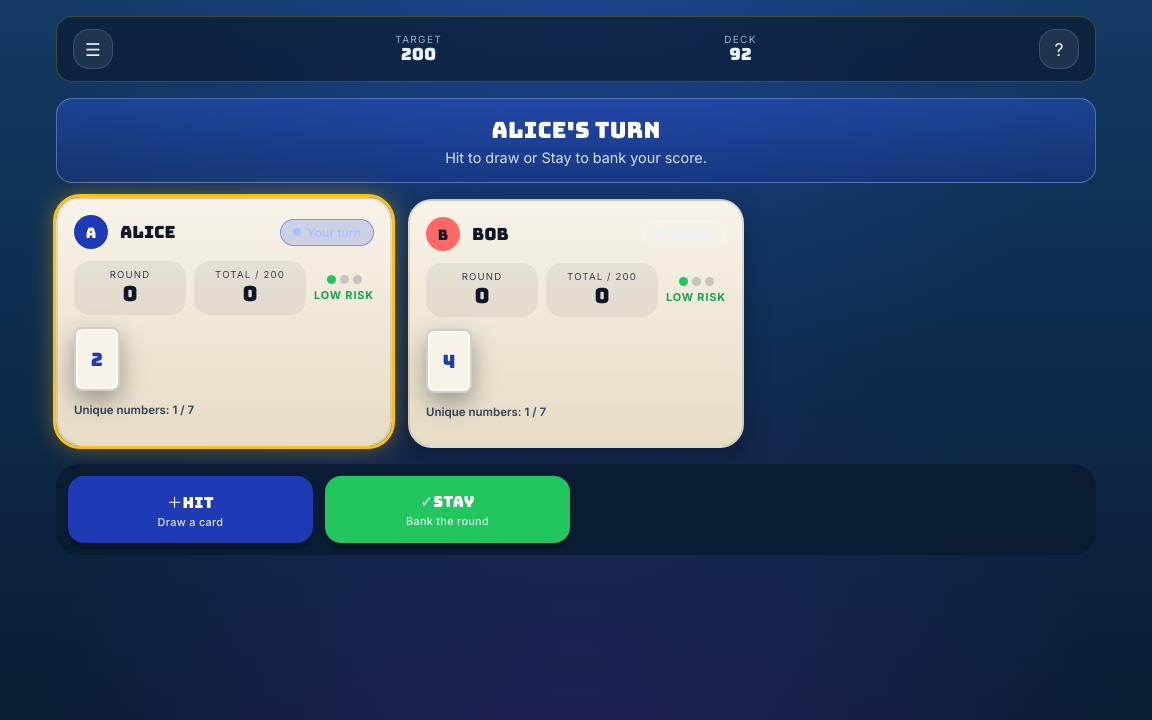
Test: Page guard-path coverage behavior › routes to game-over from action refresh when finished-state result lookup fails
Expected: the heading "Alice's turn" is shown, [492, 115, 661, 145]
Step 1. Click the button "＋Hit Draw a card" → (190, 510), box [68, 476, 313, 543]
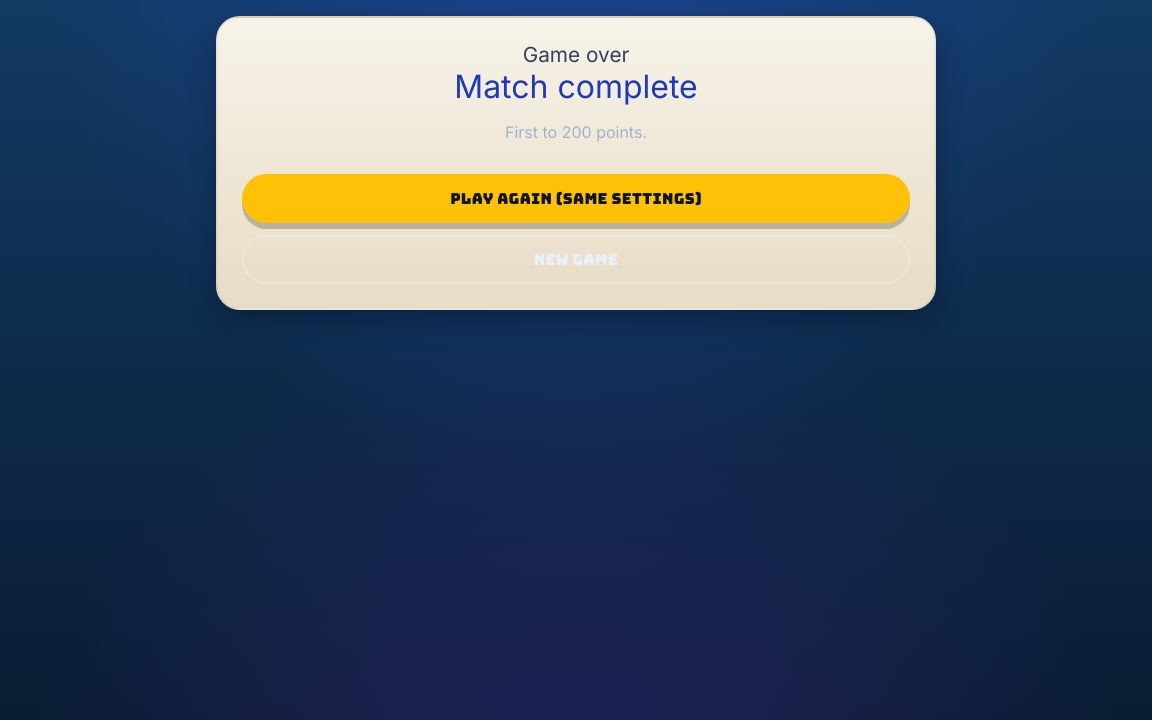
Result: the text "Game over" is shown at [523, 42, 629, 67]
Result: the text "Match complete" is shown at [454, 67, 698, 106]
